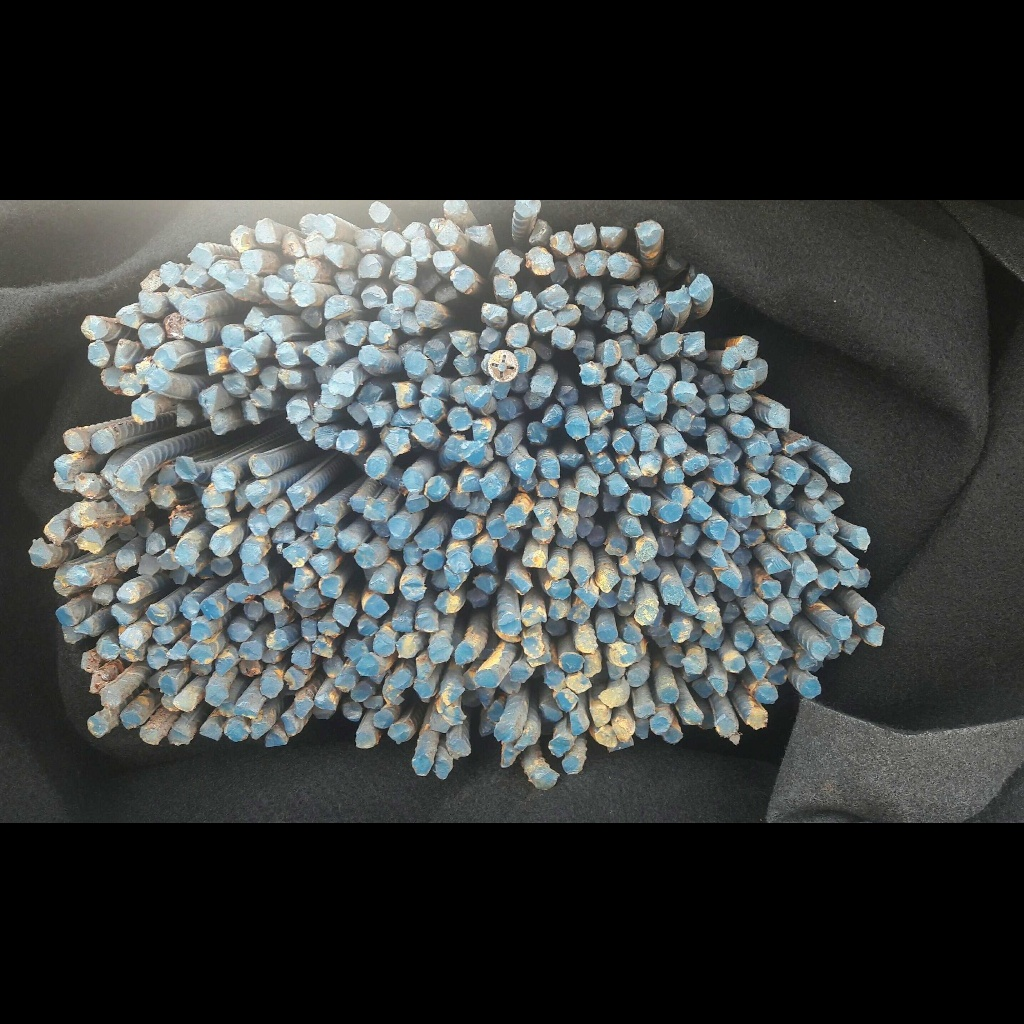dipstick: (81, 315, 110, 339)
dipstickw: (109, 488, 148, 516), (225, 270, 258, 299), (138, 289, 166, 318), (526, 247, 555, 275), (198, 384, 228, 411), (573, 284, 603, 311), (230, 349, 260, 375), (665, 286, 691, 315), (712, 458, 739, 485), (784, 459, 811, 486), (54, 454, 80, 482), (449, 331, 477, 357), (115, 339, 140, 368), (244, 332, 273, 357), (495, 249, 521, 276), (324, 295, 353, 319), (29, 538, 53, 567), (154, 344, 180, 370), (275, 342, 301, 368), (329, 371, 355, 397), (481, 302, 507, 328), (585, 250, 611, 276), (631, 312, 657, 338), (364, 403, 391, 428), (385, 429, 410, 456), (70, 502, 97, 527), (436, 590, 465, 613), (294, 257, 320, 282), (263, 275, 289, 300), (320, 383, 345, 409), (343, 320, 368, 346), (75, 473, 100, 499), (75, 528, 101, 553), (419, 396, 445, 421), (472, 418, 497, 444), (544, 285, 569, 311), (636, 221, 662, 246), (223, 373, 250, 397), (382, 230, 406, 257), (202, 484, 229, 508), (464, 385, 492, 408), (579, 362, 607, 385), (690, 273, 713, 301), (138, 323, 163, 348), (131, 398, 156, 423), (174, 540, 199, 565), (555, 303, 580, 328), (188, 242, 212, 268), (290, 283, 316, 307), (114, 467, 140, 491), (43, 519, 67, 545), (429, 637, 453, 663), (506, 571, 532, 595), (600, 226, 626, 250), (615, 333, 639, 359), (88, 340, 110, 368), (529, 218, 551, 246), (115, 305, 140, 329), (220, 325, 244, 350), (146, 369, 171, 393), (357, 383, 382, 407), (367, 320, 392, 344), (90, 430, 115, 454), (425, 477, 449, 502), (453, 353, 478, 377), (550, 231, 575, 255), (608, 252, 632, 277), (643, 391, 668, 415), (245, 481, 268, 507), (416, 299, 439, 325), (452, 268, 475, 294), (568, 252, 591, 278), (530, 767, 557, 789), (683, 454, 710, 476), (178, 299, 206, 320), (226, 583, 254, 604), (599, 686, 628, 706), (183, 263, 207, 287), (286, 399, 310, 423), (332, 271, 356, 295), (357, 255, 381, 279), (225, 717, 249, 741), (400, 577, 424, 601), (573, 224, 597, 248), (614, 361, 638, 385), (231, 225, 254, 250), (254, 218, 277, 243), (282, 232, 305, 257), (150, 484, 175, 507), (56, 604, 81, 627), (394, 382, 417, 407), (315, 502, 340, 525), (688, 497, 711, 522), (767, 404, 790, 429), (159, 261, 181, 287), (240, 399, 262, 425), (282, 545, 308, 567), (637, 277, 659, 303), (263, 316, 284, 343), (242, 563, 269, 584), (640, 449, 661, 476), (599, 340, 620, 367), (837, 560, 858, 587), (780, 531, 807, 552), (119, 373, 143, 396), (336, 430, 360, 453), (249, 454, 273, 477), (271, 521, 295, 544), (312, 525, 335, 549), (393, 285, 416, 309), (404, 351, 427, 375), (364, 595, 388, 618), (354, 545, 378, 568), (504, 504, 527, 528), (575, 585, 599, 608), (552, 326, 575, 350), (794, 561, 817, 585), (305, 232, 327, 257), (245, 307, 267, 332), (361, 286, 386, 308), (354, 229, 379, 251), (479, 474, 501, 499), (450, 518, 475, 540), (507, 323, 529, 348), (603, 535, 628, 557), (635, 537, 657, 562), (558, 510, 579, 536), (101, 368, 124, 391), (240, 250, 263, 273), (250, 386, 273, 409), (212, 469, 235, 492), (393, 256, 416, 279), (140, 269, 162, 293), (304, 344, 328, 366), (119, 627, 143, 649), (200, 598, 224, 620), (448, 408, 472, 430), (332, 605, 356, 627), (345, 639, 369, 661), (612, 644, 636, 666), (531, 375, 555, 397), (565, 417, 589, 439), (627, 493, 651, 515), (494, 274, 516, 298), (468, 225, 492, 247), (617, 285, 639, 309), (635, 354, 657, 378), (668, 620, 692, 642), (733, 367, 757, 389), (238, 544, 263, 565), (145, 604, 170, 625), (521, 605, 546, 626), (554, 690, 579, 711), (559, 652, 584, 673), (514, 347, 535, 372), (324, 243, 344, 269), (111, 604, 137, 624), (410, 237, 430, 263), (369, 574, 395, 594), (415, 530, 441, 550), (775, 485, 795, 511), (701, 375, 727, 395), (296, 418, 318, 441), (300, 307, 322, 330), (63, 430, 86, 452), (266, 505, 288, 528), (205, 684, 228, 706), (285, 668, 307, 691), (365, 499, 388, 521), (319, 575, 341, 598), (322, 655, 344, 678), (474, 572, 497, 594), (499, 613, 521, 636), (389, 517, 412, 539), (620, 553, 642, 576), (664, 434, 686, 457), (675, 382, 697, 405), (314, 426, 335, 450), (357, 344, 381, 365), (175, 456, 196, 480), (66, 565, 90, 586), (116, 581, 140, 602), (432, 250, 456, 271), (449, 380, 470, 404), (308, 555, 332, 576), (543, 405, 564, 429), (515, 291, 536, 315), (205, 508, 230, 528), (403, 540, 423, 565), (548, 579, 573, 599), (851, 526, 871, 551), (748, 358, 768, 383), (188, 644, 214, 663), (764, 555, 790, 574), (365, 457, 387, 479), (210, 534, 232, 556), (115, 549, 137, 571), (357, 654, 379, 676), (592, 452, 614, 474), (624, 404, 646, 426), (606, 310, 628, 332), (693, 574, 715, 596), (723, 651, 745, 673), (855, 603, 877, 625), (248, 515, 271, 536), (156, 549, 179, 570), (96, 639, 119, 660), (100, 686, 123, 707), (86, 716, 109, 737), (260, 677, 283, 698), (634, 604, 657, 625), (596, 724, 617, 747), (480, 328, 501, 351), (662, 332, 683, 355), (575, 632, 598, 653), (167, 287, 187, 311), (208, 262, 228, 286), (316, 215, 336, 239), (183, 322, 207, 342), (313, 400, 333, 424), (347, 402, 367, 426), (179, 597, 199, 621), (140, 725, 164, 745), (168, 724, 192, 744), (388, 722, 412, 742), (601, 383, 621, 407), (672, 486, 692, 510), (827, 464, 851, 484), (738, 335, 758, 359), (259, 365, 278, 390), (447, 552, 472, 571), (566, 674, 591, 693), (369, 201, 390, 223), (286, 489, 307, 511), (138, 554, 159, 576), (267, 629, 289, 650), (293, 697, 314, 719), (374, 635, 395, 657), (471, 545, 493, 566), (547, 556, 568, 578), (613, 719, 634, 741), (589, 705, 611, 726), (578, 476, 600, 497), (613, 434, 634, 456), (771, 603, 792, 625), (719, 568, 741, 589), (806, 477, 827, 499), (731, 416, 753, 437), (210, 556, 233, 576), (447, 739, 470, 759), (475, 669, 498, 689), (522, 637, 545, 657), (545, 617, 568, 637), (662, 585, 685, 605), (754, 684, 777, 704), (587, 408, 614, 425), (296, 508, 315, 532), (173, 693, 197, 712), (297, 588, 321, 607), (311, 640, 335, 659), (686, 332, 705, 356), (631, 378, 650, 402), (276, 368, 301, 386), (318, 620, 343, 638), (495, 722, 520, 740), (145, 534, 166, 555), (146, 647, 167, 668), (80, 651, 101, 672), (412, 420, 433, 441), (397, 636, 418, 657), (351, 681, 372, 702), (453, 643, 474, 664), (658, 683, 679, 704), (527, 422, 548, 443), (540, 458, 561, 479), (577, 496, 598, 517), (437, 226, 458, 247), (706, 520, 727, 541), (706, 433, 727, 454), (708, 394, 729, 415), (210, 413, 230, 435), (403, 470, 423, 492), (449, 489, 471, 509), (549, 736, 571, 756), (541, 701, 563, 721), (608, 473, 628, 495), (661, 502, 683, 522), (536, 309, 556, 331), (691, 678, 713, 698), (763, 642, 783, 664), (817, 569, 839, 589), (751, 453, 773, 473), (698, 603, 720, 623), (119, 710, 142, 729), (240, 641, 263, 660), (445, 201, 468, 220), (401, 311, 420, 334), (494, 433, 513, 456), (597, 572, 620, 591), (496, 399, 515, 422), (672, 409, 691, 432), (833, 617, 852, 640), (415, 614, 439, 632), (584, 435, 608, 453), (682, 656, 706, 674), (745, 439, 770, 456), (324, 320, 344, 341), (158, 466, 178, 487), (243, 600, 263, 621), (215, 655, 236, 675), (89, 672, 109, 693), (290, 646, 310, 667), (263, 592, 284, 612), (358, 614, 378, 635), (391, 669, 412, 689), (423, 550, 444, 570), (559, 489, 579, 510), (747, 707, 767, 728), (810, 639, 831, 659), (815, 534, 836, 554), (749, 476, 770, 496), (169, 517, 191, 536), (152, 625, 174, 644), (422, 376, 444, 395), (467, 588, 489, 607), (458, 473, 480, 492), (487, 520, 509, 539), (536, 479, 558, 498), (621, 519, 643, 538), (639, 428, 658, 450), (681, 524, 700, 546), (722, 348, 741, 370), (227, 623, 250, 641), (571, 711, 589, 734), (177, 403, 194, 427), (133, 517, 153, 537), (337, 533, 357, 553), (515, 458, 535, 478), (720, 603, 740, 623), (92, 586, 113, 605), (342, 701, 361, 722), (412, 755, 431, 776), (562, 755, 583, 774), (570, 566, 591, 585), (534, 508, 555, 527), (532, 525, 553, 544), (587, 525, 606, 546), (766, 666, 787, 685), (800, 677, 819, 698), (747, 604, 768, 623), (190, 623, 212, 641), (200, 723, 222, 741), (732, 632, 754, 650), (681, 707, 704, 724), (522, 552, 546, 568), (518, 201, 542, 217), (373, 709, 392, 729), (445, 706, 464, 726), (623, 624, 643, 643), (717, 717, 737, 736), (761, 579, 781, 598), (810, 504, 830, 523), (335, 675, 356, 693), (509, 663, 530, 681), (663, 467, 685, 484), (748, 661, 770, 678), (734, 495, 751, 517), (159, 676, 179, 694), (430, 715, 450, 733), (597, 625, 617, 643), (558, 387, 578, 405), (657, 536, 674, 557), (866, 625, 883, 646), (301, 618, 316, 641), (431, 570, 449, 589), (627, 669, 646, 687), (752, 496, 770, 515), (838, 550, 858, 567), (282, 715, 298, 736), (355, 732, 376, 748), (392, 616, 413, 632), (633, 701, 654, 717), (434, 760, 451, 779), (666, 650, 685, 667), (414, 682, 434, 698), (265, 732, 287, 746), (299, 214, 316, 232), (350, 496, 368, 513), (650, 717, 668, 734), (664, 726, 682, 743), (117, 525, 136, 541)
